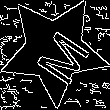M_NW: (21, 17, 87, 83)
